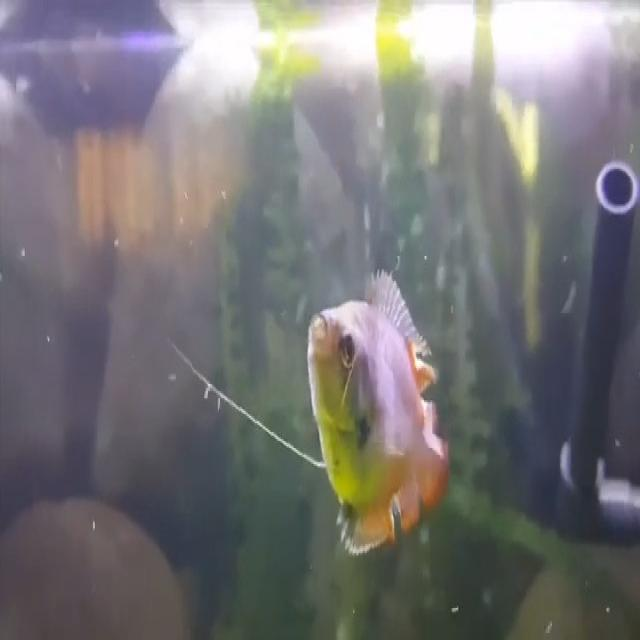fish: (304, 263, 454, 559)
